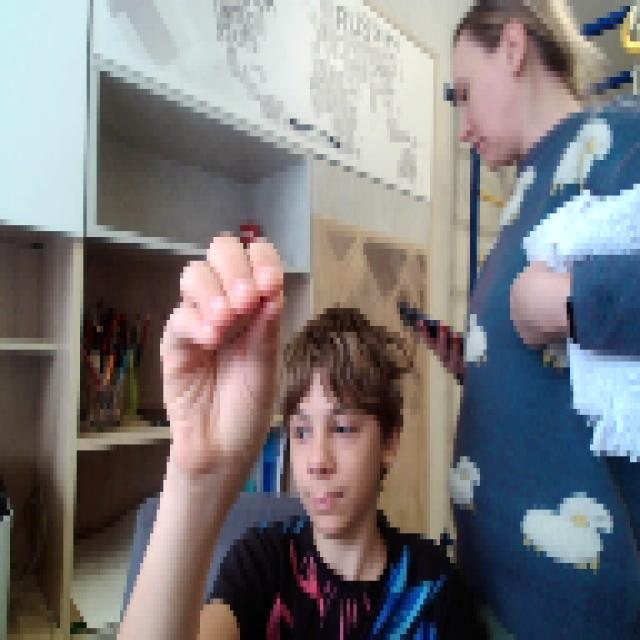left_click: (157, 219, 283, 462)
